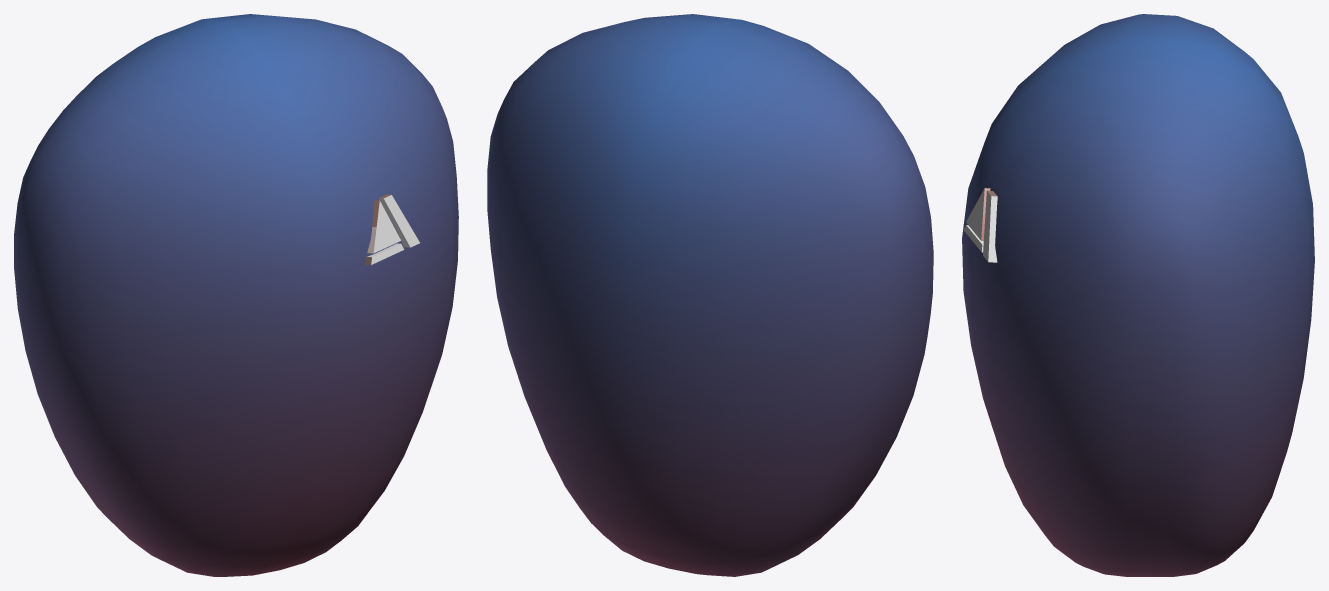
The model's file is apainter-body.gltf.
The picture shows the model from 3 angles, left to right: view 1: azimuth 30°, elevation 25°; view 2: azimuth 150°, elevation 25°; view 3: azimuth 270°, elevation 25°; orthographic projection.
Visible parts, largest first — view 1: body, Cube; view 2: body; view 3: body, Cube.
Boxes of the visible parts, bbox=[...] form: body: bbox=[14, 14, 458, 576]; Cube: bbox=[364, 194, 419, 264]; body: bbox=[487, 14, 933, 576]; body: bbox=[962, 14, 1314, 576]; Cube: bbox=[963, 188, 997, 262].
Bounding box in the file's own units: 0.3344 × 0.4022 × 0.2516.
